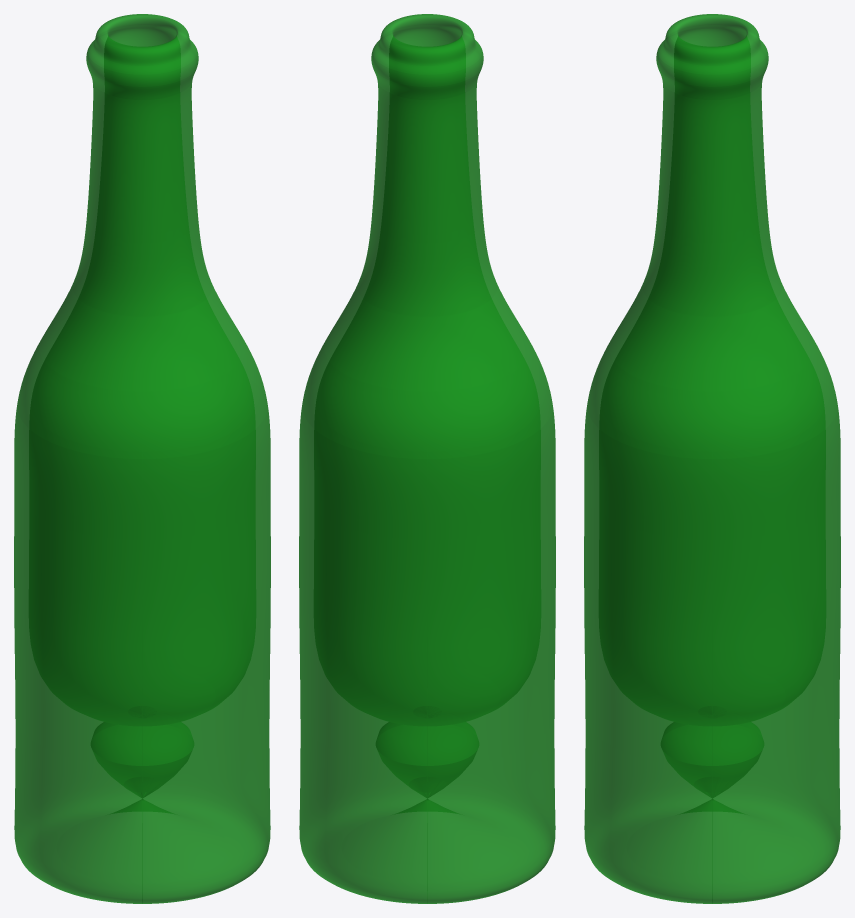
Rendered from Glass.fbx.
3 views of the same model, side by side, from view 1: azimuth 30°, elevation 25°; view 2: azimuth 150°, elevation 25°; view 3: azimuth 270°, elevation 25° (orthographic).
Visible parts, largest first — view 1: HyperNURBS_2; view 2: HyperNURBS_2; view 3: HyperNURBS_2.
Boxes of the visible parts, x1,y1,x2,y2 form: HyperNURBS_2: (14, 14, 270, 903); HyperNURBS_2: (299, 14, 555, 903); HyperNURBS_2: (584, 14, 840, 903).
Bounding box in the file's own units: 643 × 2277 × 643.
